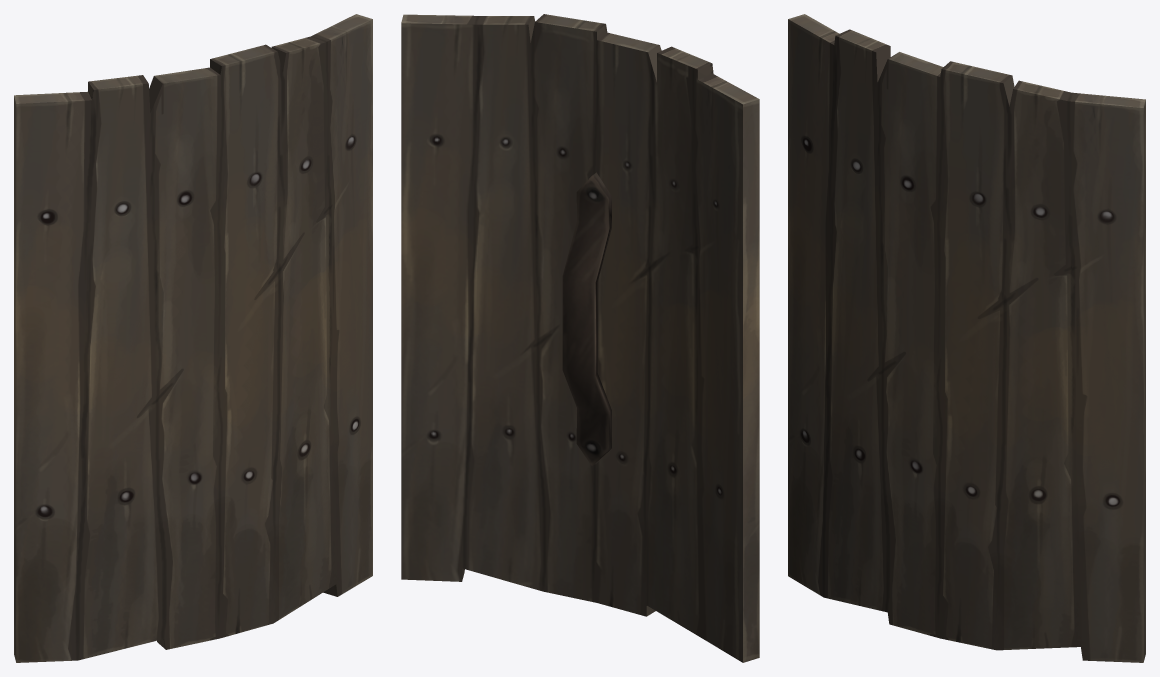
The model's file is Shield12.fbx.
3 renders of one model, left to right at view 1: azimuth 30°, elevation 25°; view 2: azimuth 150°, elevation 25°; view 3: azimuth 330°, elevation 25°, orthographic.
Parts seen in each view (by area): view 1: Shield12; view 2: Shield12; view 3: Shield12.
Part boxes in pixels (box(x1,y1,x2,y2)): Shield12: box(14, 14, 372, 662); Shield12: box(401, 14, 759, 662); Shield12: box(788, 14, 1145, 662).
Size of the model in its own units: 0.8425 by 1.29 by 0.1447.
